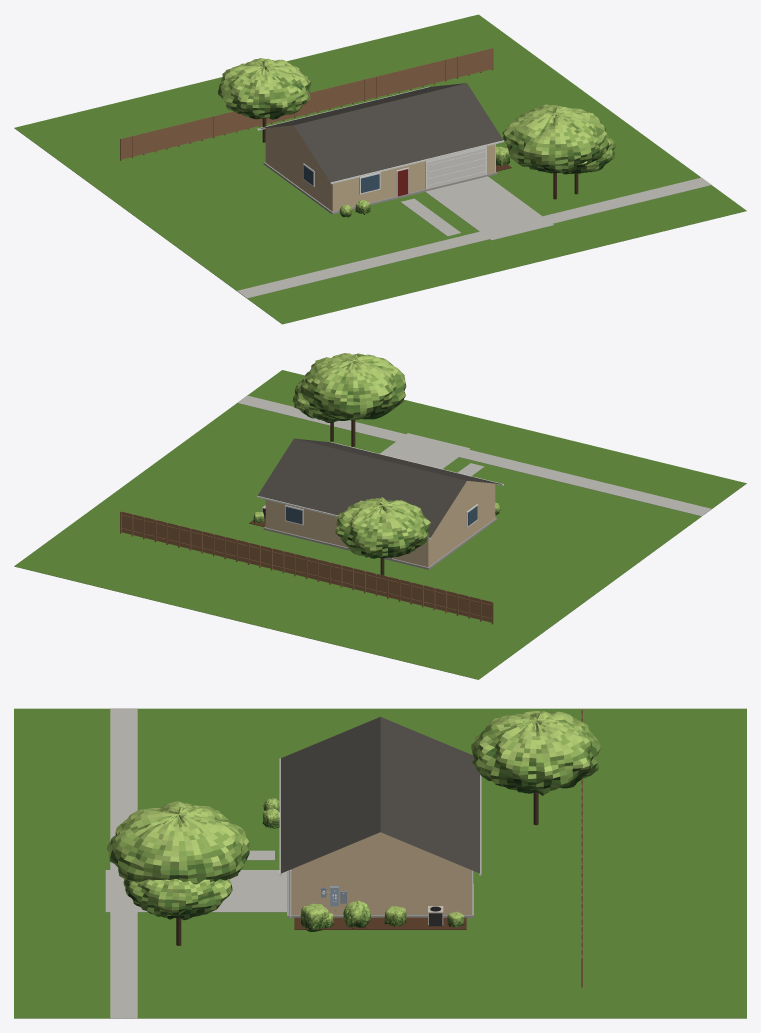
Rendered from home_01_pre_install.obj.
3 renders of one model, top to bottom at view 1: azimuth 30°, elevation 25°; view 2: azimuth 150°, elevation 25°; view 3: azimuth 270°, elevation 25°, orthographic. The views are drawn at different scales.
Parts seen in each view (by area): view 1: yard, house, tree_2, tree_1, tree_3; view 2: yard, house, tree_2, tree_1, tree_3; view 3: yard, house, tree_2, tree_1, tree_3, mulch_bed_side, bush_boxwood_4, bush_dome_1.
Boxes of the visible parts, <box> form: yard: <box>14,14,746,324</box>; house: <box>257,83,503,214</box>; tree_2: <box>502,104,609,199</box>; tree_1: <box>218,58,311,142</box>; tree_3: <box>562,135,615,194</box>; yard: <box>14,370,746,679</box>; house: <box>257,438,503,569</box>; tree_2: <box>300,353,406,446</box>; tree_1: <box>335,497,430,575</box>; tree_3: <box>292,381,338,441</box>; yard: <box>14,708,746,1018</box>; house: <box>279,717,481,918</box>; tree_2: <box>107,801,249,884</box>; tree_1: <box>471,711,600,825</box>; tree_3: <box>123,878,232,945</box>; mulch_bed_side: <box>294,917,466,929</box>; bush_boxwood_4: <box>300,903,328,931</box>; bush_dome_1: <box>343,900,370,928</box>.
Size of the model in its own units: 40 by 7.14 by 40.
